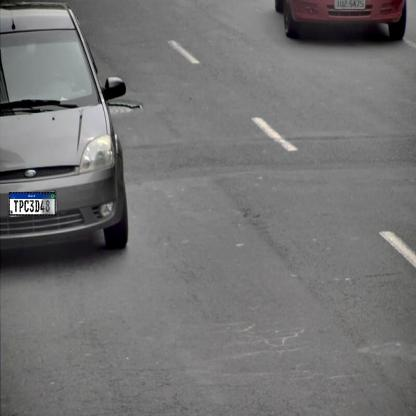PlacaM: (9, 192, 56, 216)
